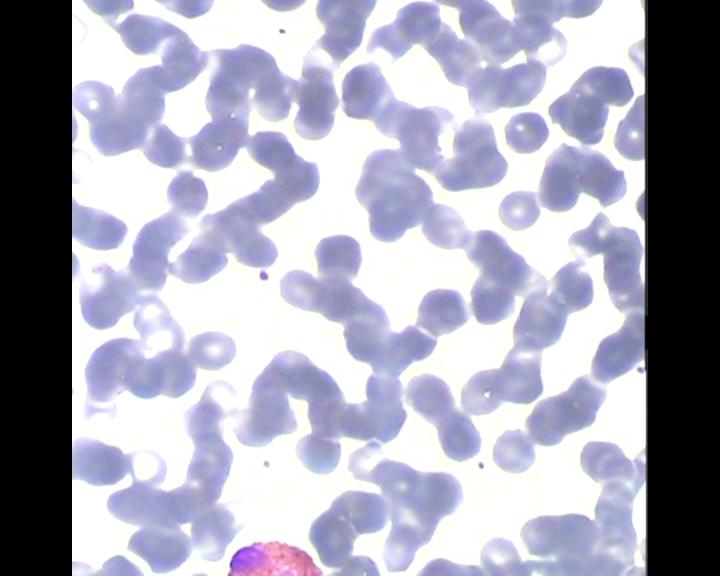eosi: (216, 535, 327, 576)
